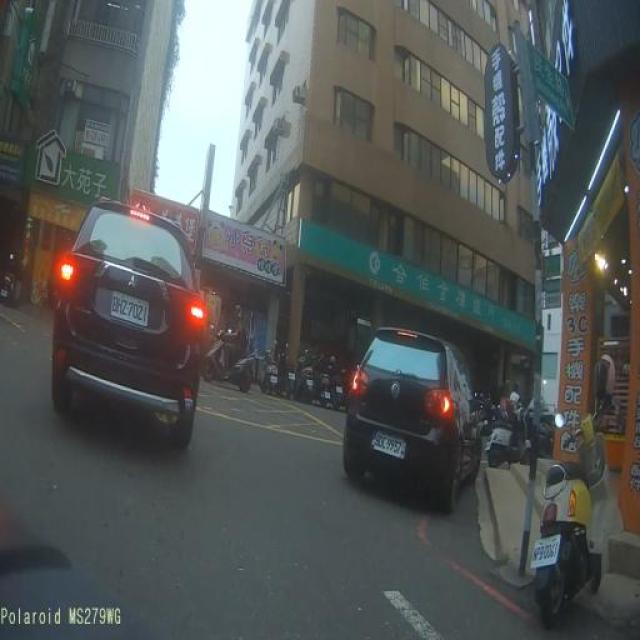Legalparking: (530, 405, 608, 628), (204, 329, 334, 404)
illegalparking: (51, 205, 202, 445), (344, 328, 479, 510)
